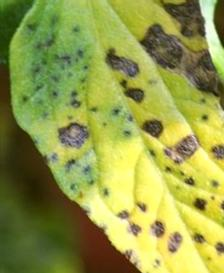Tomato Septoria leaf spot: (4, 0, 224, 273)
